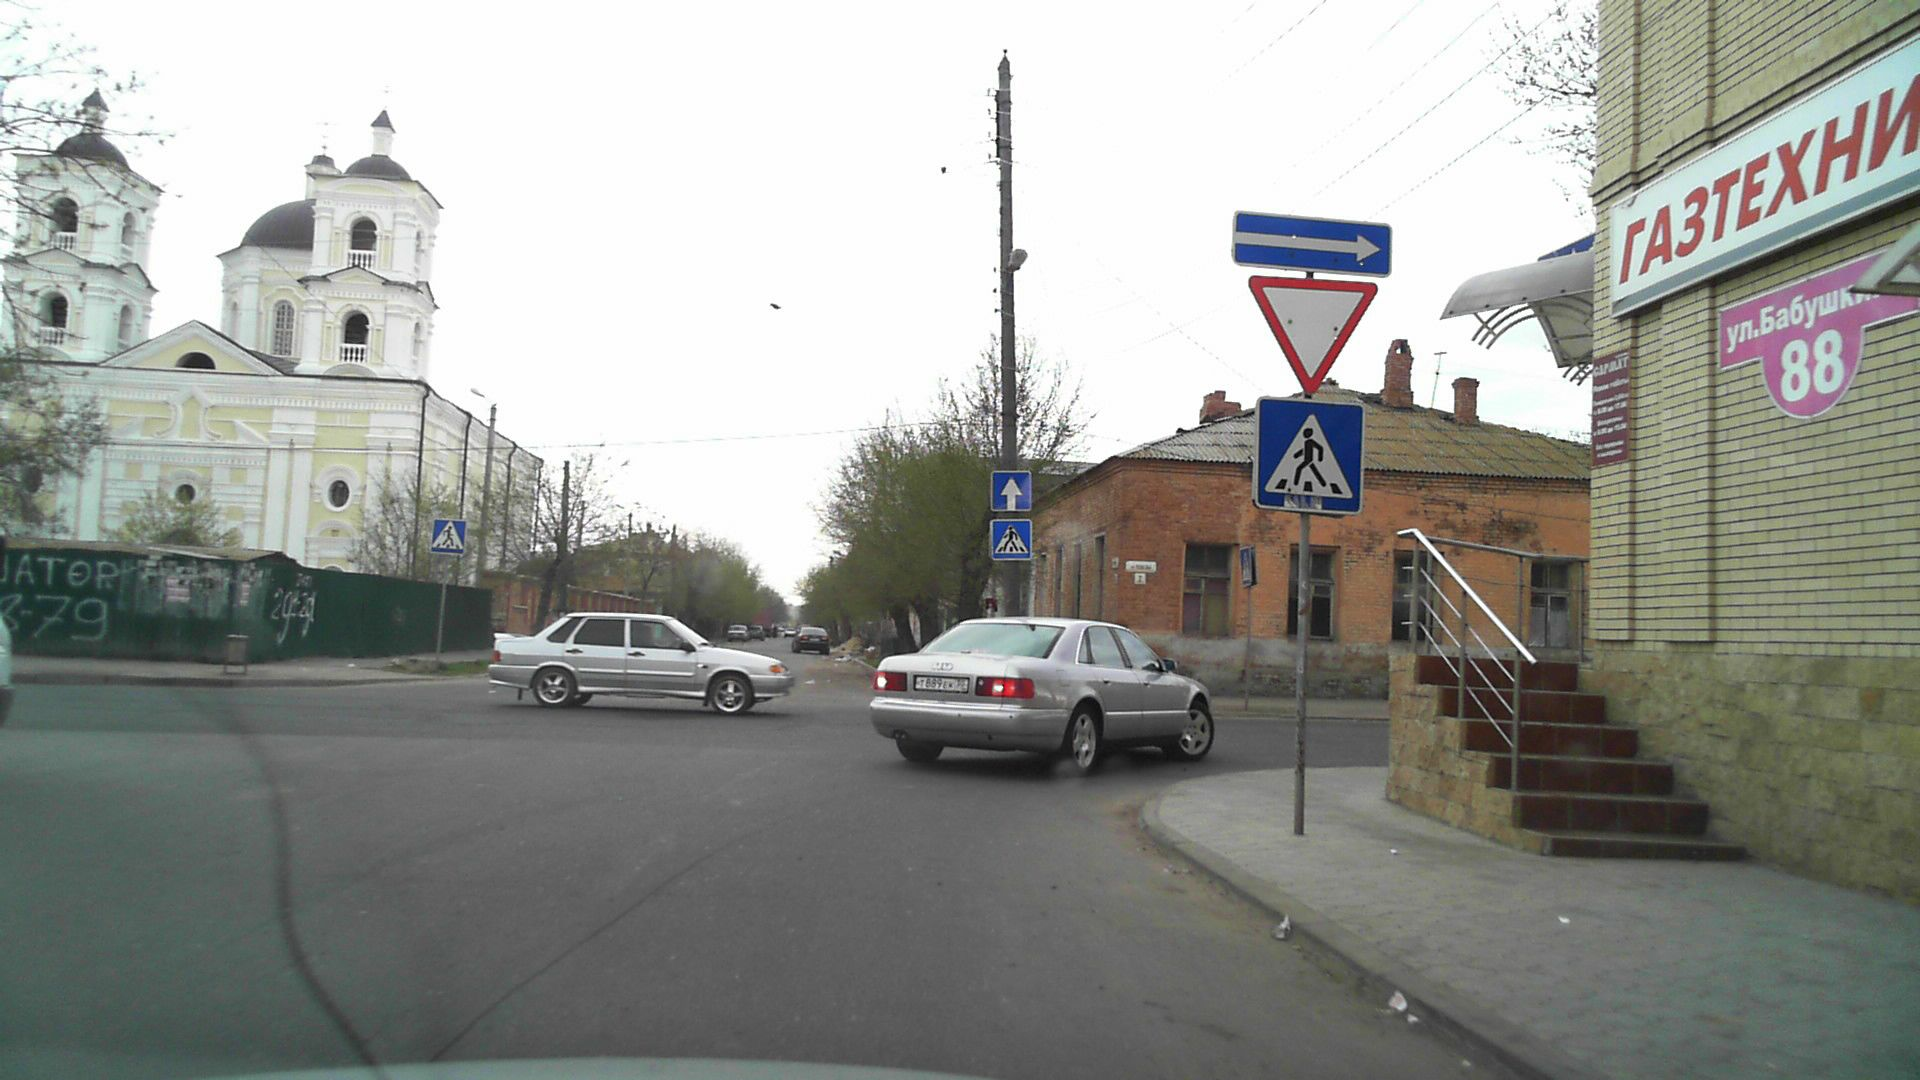One-Way Traffic: (1233, 211, 1391, 277)
Pedestrian Crossing: (1258, 398, 1364, 513), (992, 521, 1031, 559), (433, 520, 465, 553)
